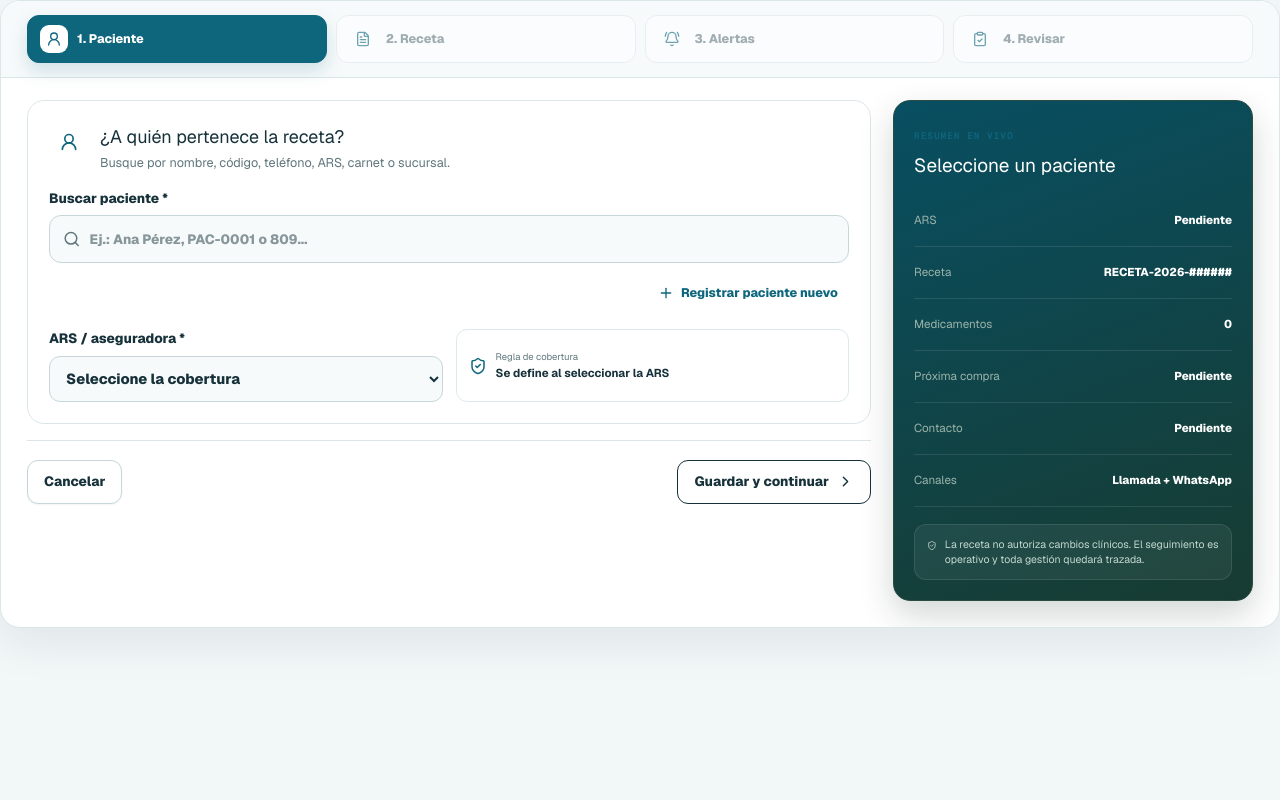
NewPlanWorkspace › mantiene ocultos los pacientes hasta que el operador empieza a escribir
Type "a" into the search field labelled "Buscar paciente". click: (462, 239)
box: [89, 230, 835, 249]
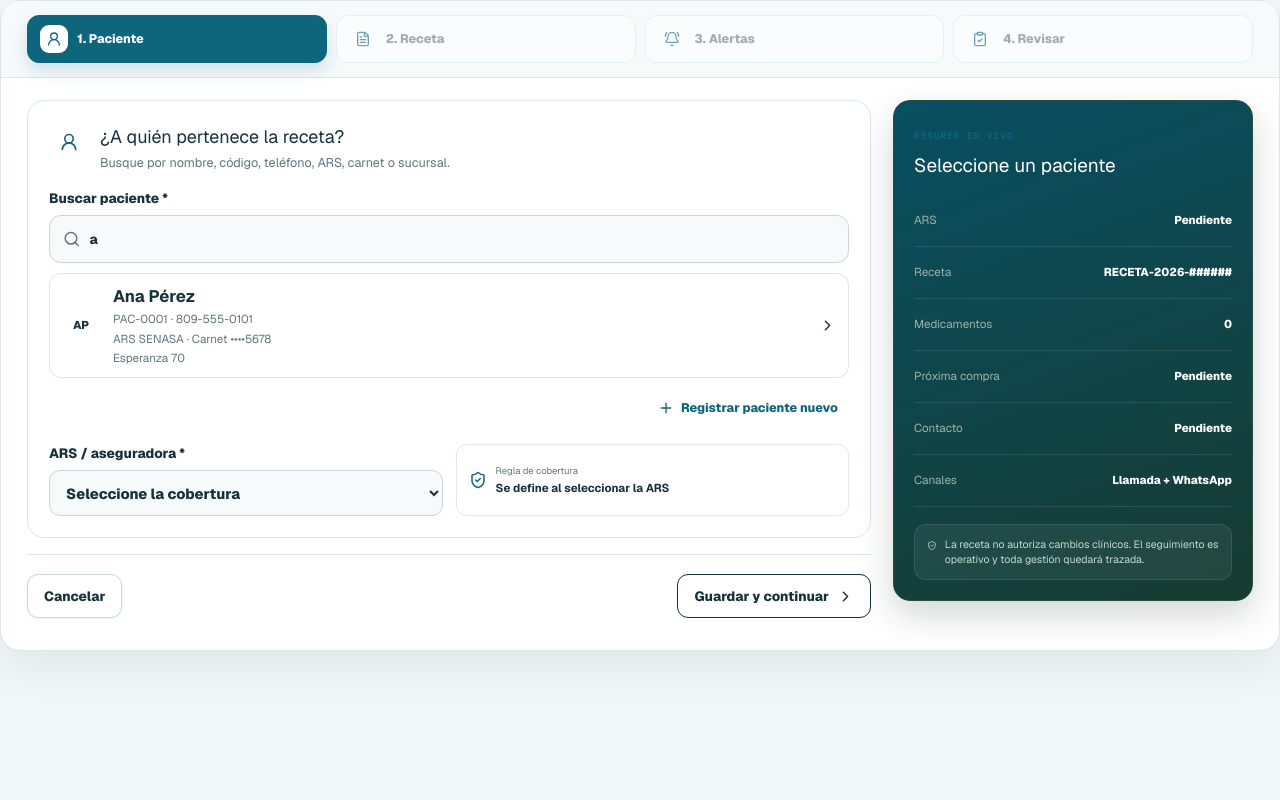
Now the button with aria-label "Seleccionar Ana Pérez" is shown, box [49, 273, 849, 378]
